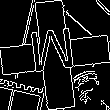M_S: (29, 27, 81, 83)
